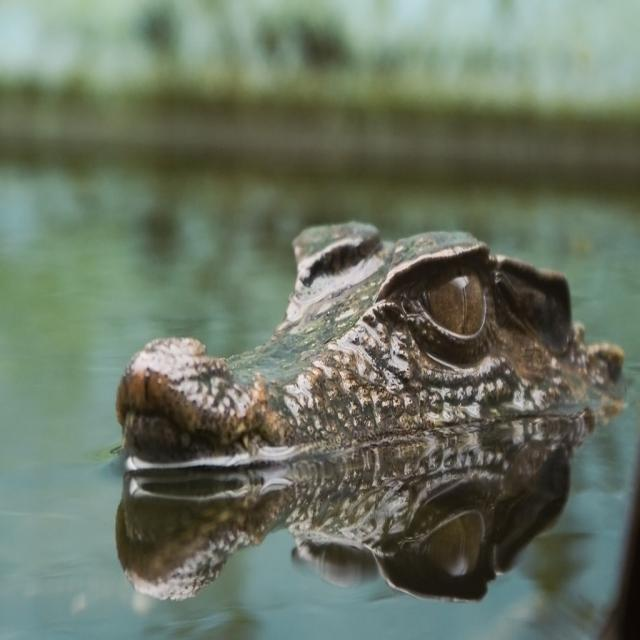crocodile: (82, 205, 639, 487)
